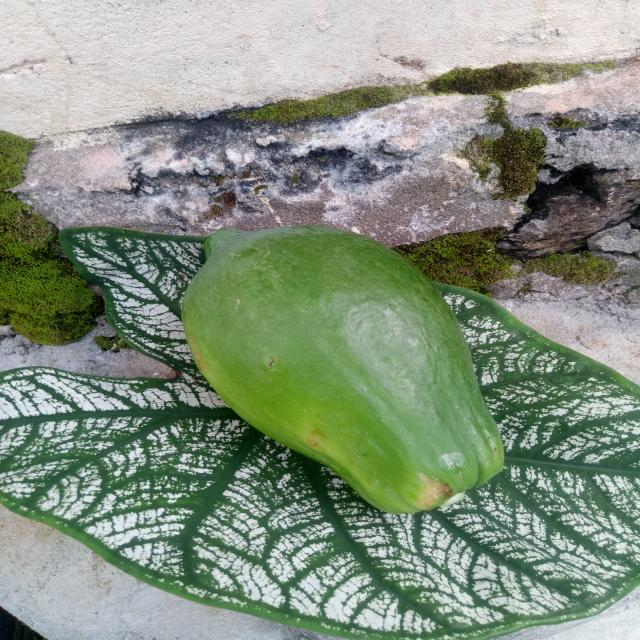Pepaya unrippen: (173, 215, 517, 523)
